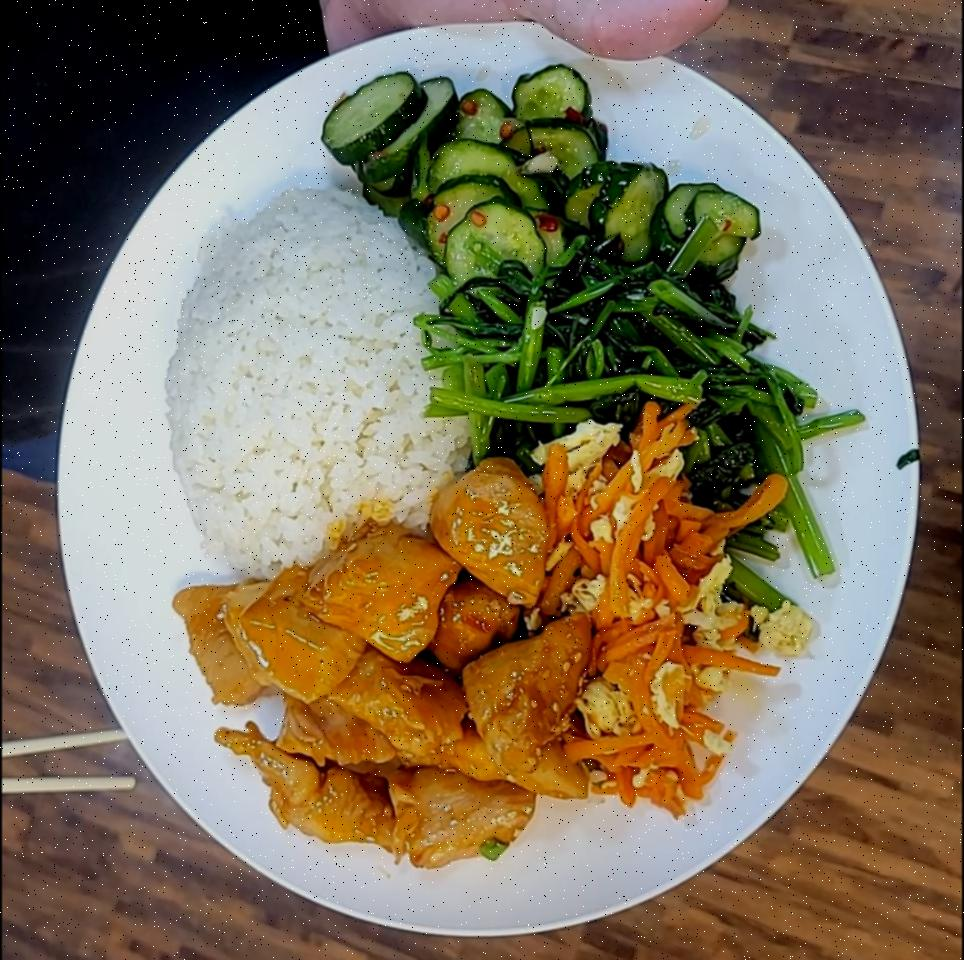plate: (30, 6, 944, 948)
side dish: (420, 257, 813, 510), (321, 61, 754, 270), (528, 430, 744, 794)
spicy chicken: (166, 467, 592, 860)
white rice: (161, 185, 488, 578)
